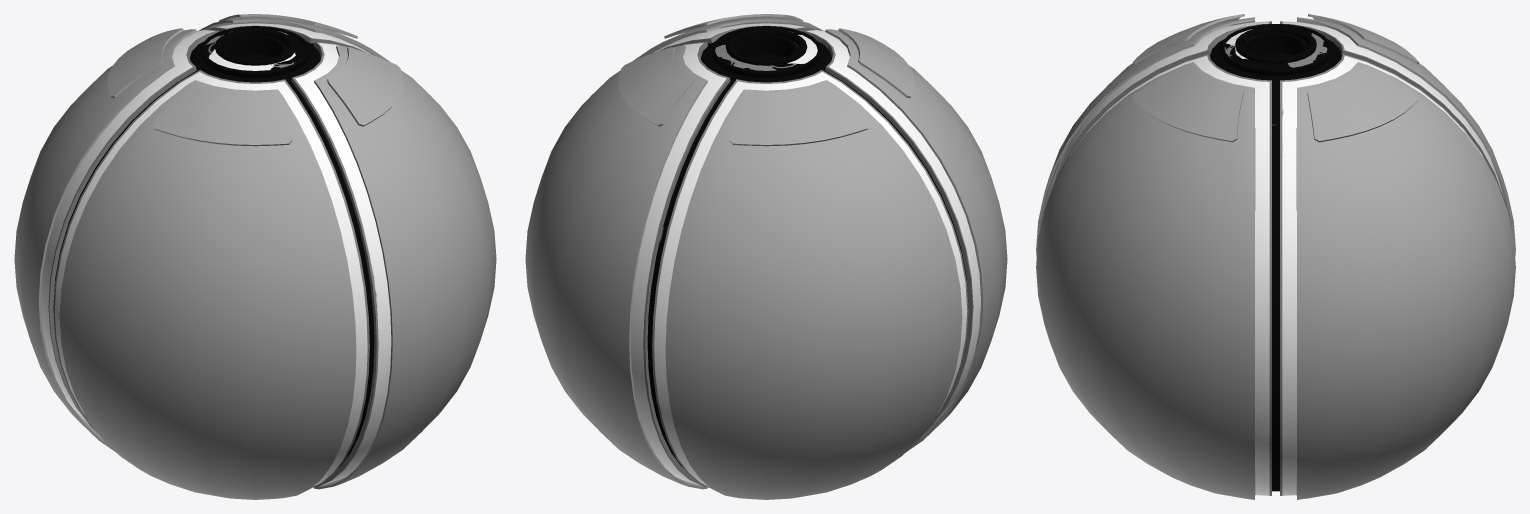
3 renders of one model, left to right at view 1: azimuth 30°, elevation 25°; view 2: azimuth 150°, elevation 25°; view 3: azimuth 270°, elevation 25°, orthographic.
Visible parts, largest first — view 1: sphereShell_1, sphereInside, SphereShell_2, sphereBlueLED; view 2: sphereShell_1, sphereInside, SphereShell_2, sphereBlueLED; view 3: sphereShell_1, sphereInside, SphereShell_2, sphereBlueLED.
Part boxes in pixels (left/top/right/bottom): sphereShell_1: left=14, top=18, right=496, bottom=499; sphereInside: left=41, top=23, right=391, bottom=487; SphereShell_2: left=107, top=14, right=403, bottom=146; sphereBlueLED: left=204, top=31, right=306, bottom=70; sphereShell_1: left=525, top=18, right=1007, bottom=499; sphereInside: left=630, top=23, right=980, bottom=487; SphereShell_2: left=618, top=14, right=914, bottom=146; sphereBlueLED: left=715, top=31, right=817, bottom=70; sphereShell_1: left=1036, top=17, right=1515, bottom=499; sphereInside: left=1045, top=21, right=1506, bottom=495; SphereShell_2: left=1133, top=14, right=1418, bottom=142; sphereBlueLED: left=1224, top=29, right=1327, bottom=68.
Size of the model in its own units: 2.02 by 2 by 2.02.
